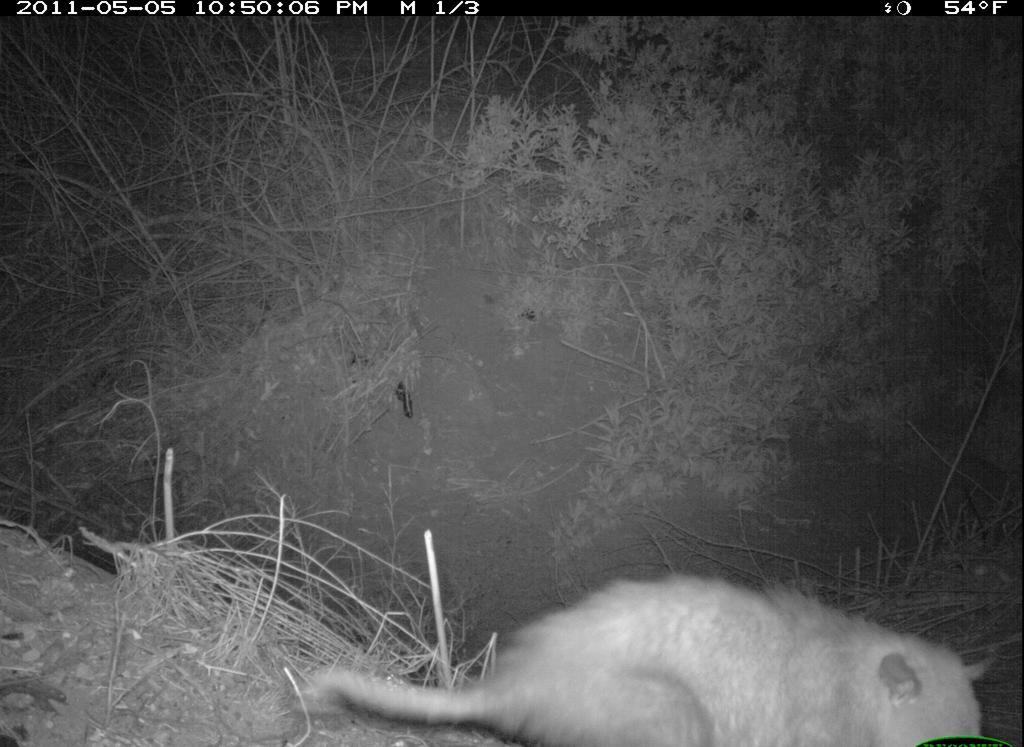opossum: (290, 565, 1008, 747)
